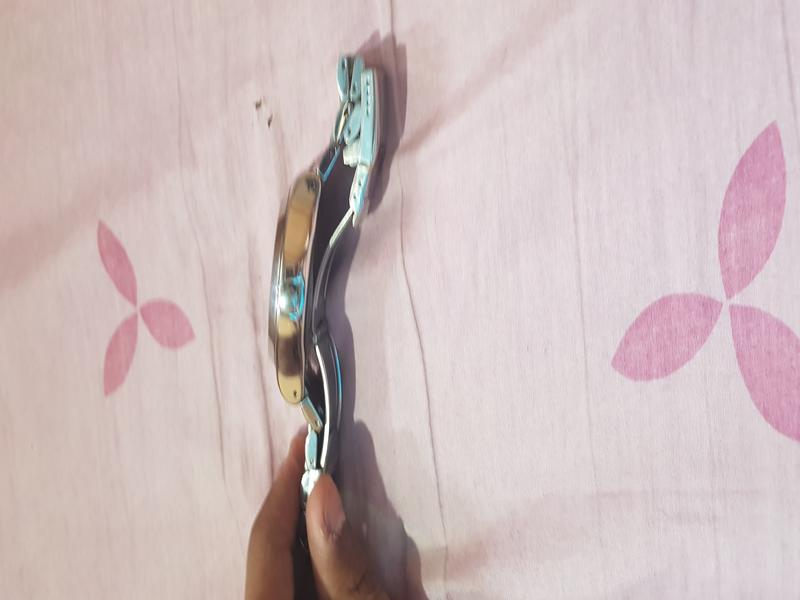watch: (243, 39, 456, 480)
